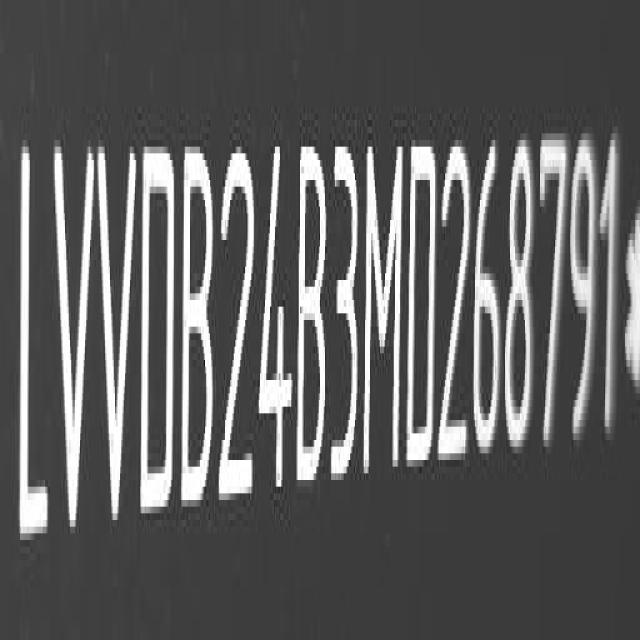1: (600, 125, 621, 447)
2: (219, 145, 257, 519), (439, 138, 471, 474)
3: (333, 144, 364, 488)
4: (258, 143, 294, 499)
6: (473, 138, 504, 464)
7: (538, 125, 568, 454)
8: (506, 138, 537, 460)
9: (568, 130, 597, 451)
B: (182, 142, 218, 523), (299, 141, 331, 496)
D: (138, 139, 175, 527), (409, 135, 439, 473)
L: (13, 131, 51, 556)
M: (367, 136, 408, 482)
V: (49, 133, 92, 546), (97, 138, 139, 539)
